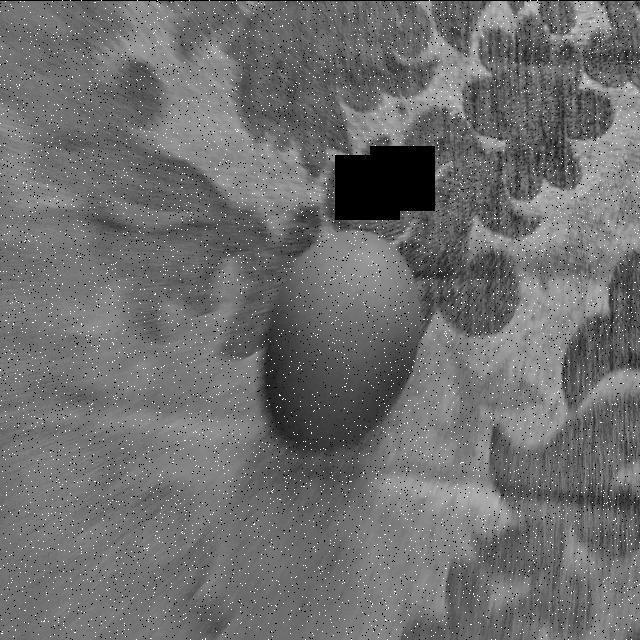egg: (258, 228, 424, 454)
